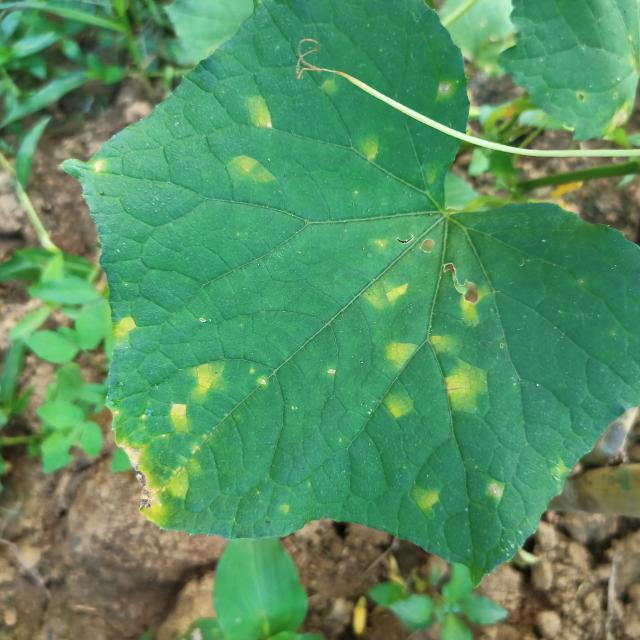disease_cucumber: (354, 227, 504, 438), (110, 359, 229, 528), (221, 90, 281, 194), (97, 302, 138, 354), (404, 479, 446, 522), (352, 125, 384, 169)
